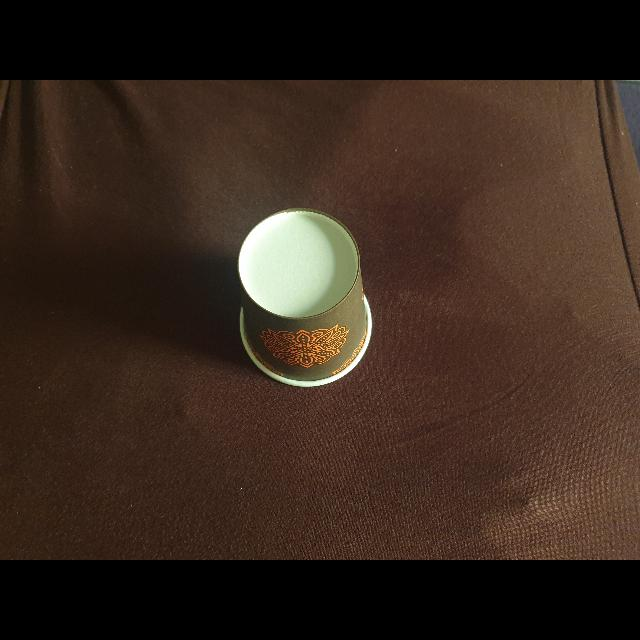trash: (230, 204, 382, 396)
